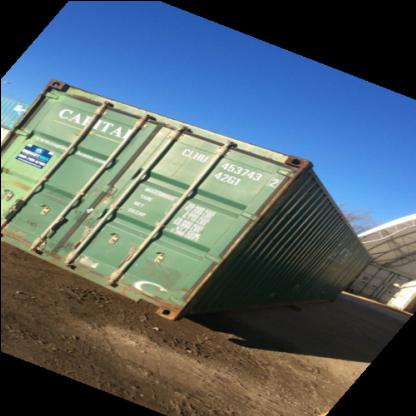Damage: (126, 254, 172, 299), (44, 232, 78, 267), (16, 214, 38, 235)
